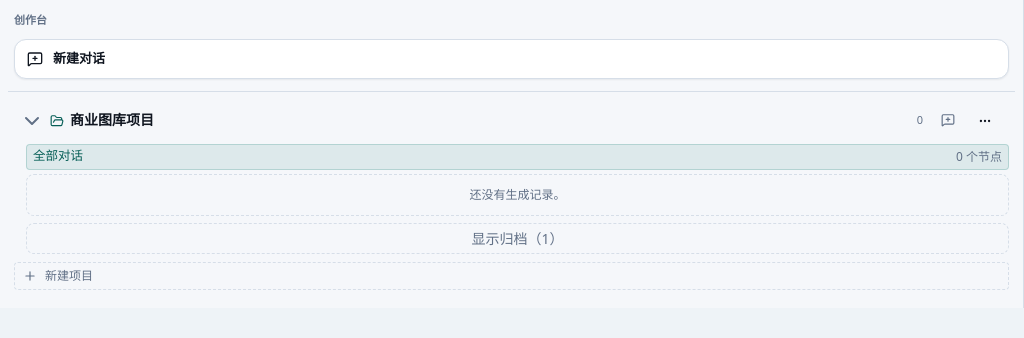
Test case: Session row menu (Cut 6) › hides archived branches by default and reveals them via 「显示归档」 toggle
The width and height of the screenshot is (1024, 338).
Expected: the text "今天的会话" is not shown
Click the button with test id "toggle-archived-commercial": (518, 238) [26,222,1009,254]
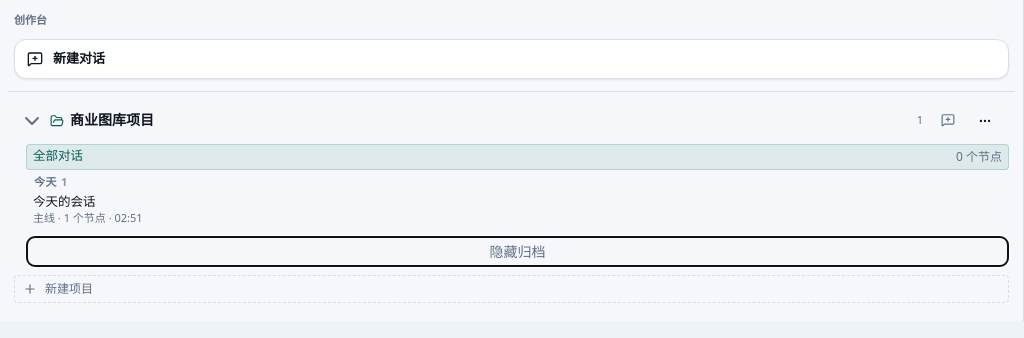
Now the text "今天的会话" is shown, box [33,193,96,210]
Now the button with test id "toggle-archived-commercial" reads "隐藏归档", box [26,236,1009,267]
